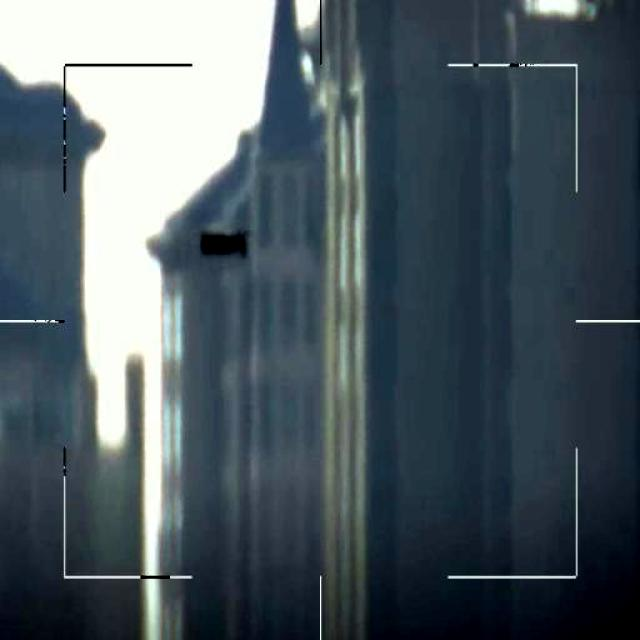bird: (201, 221, 250, 259)
